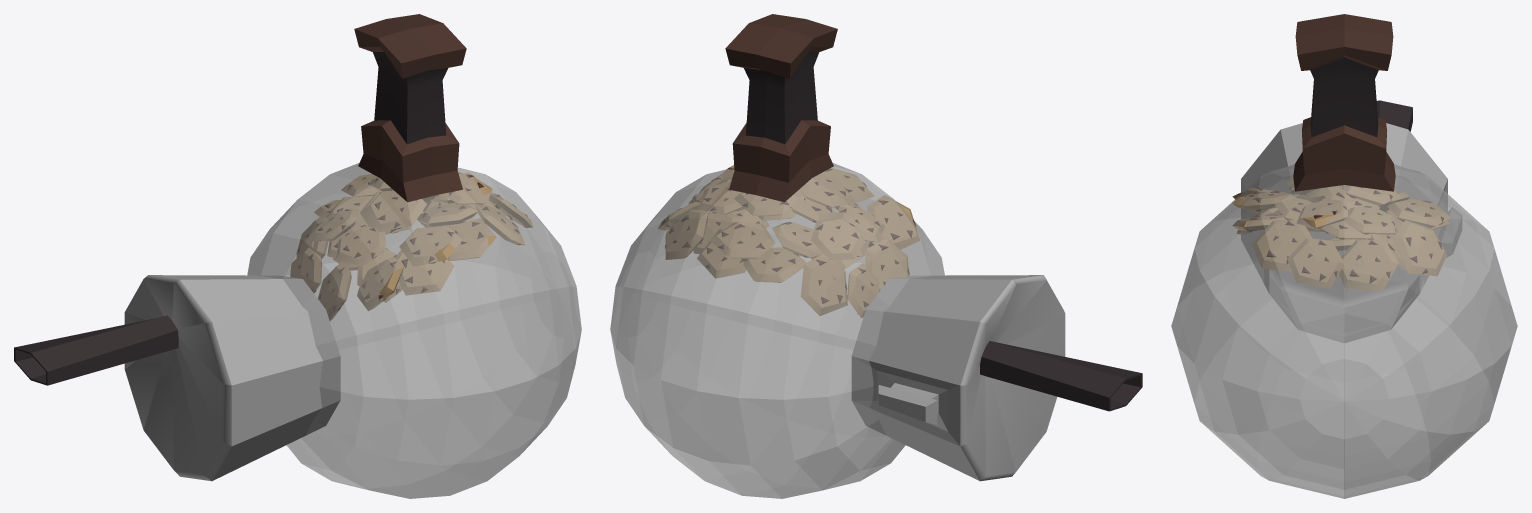
The model's file is cookie gun.fbx.
3 views of the same model, side by side, from view 1: azimuth 30°, elevation 25°; view 2: azimuth 150°, elevation 25°; view 3: azimuth 270°, elevation 25° (orthographic).
Parts seen in each view (by area): view 1: polySurface818, polySurface901, polySurface900, polySurface725, polySurface705, polySurface590, polySurface809, polySurface881, polySurface634, polySurface559, polySurface523, polySurface765 (+4 smaller); view 2: polySurface818, polySurface901, polySurface900, polySurface497, polySurface732, polySurface890, polySurface809, polySurface850, polySurface798, polySurface559, polySurface705, polySurface765 (+8 smaller); view 3: polySurface818, polySurface901, polySurface540, polySurface520, polySurface798, polySurface871, polySurface890, polySurface550, polySurface551, polySurface900, polySurface725, polySurface531 (+4 smaller).
Part boxes in pixels (x1=…): polySurface818: x1=247, y1=14, x2=581, y2=498; polySurface901: x1=124, y1=275, x2=340, y2=481; polySurface900: x1=14, y1=315, x2=178, y2=385; polySurface725: x1=399, y1=226, x2=461, y2=266; polySurface705: x1=364, y1=190, x2=426, y2=232; polySurface590: x1=395, y1=250, x2=454, y2=295; polySurface809: x1=357, y1=256, x2=403, y2=310; polySurface881: x1=336, y1=226, x2=385, y2=266; polySurface634: x1=448, y1=218, x2=496, y2=260; polySurface559: x1=318, y1=262, x2=351, y2=320; polySurface523: x1=417, y1=202, x2=478, y2=226; polySurface765: x1=290, y1=247, x2=321, y2=292; polySurface818: x1=610, y1=14, x2=944, y2=498; polySurface901: x1=851, y1=275, x2=1065, y2=481; polySurface900: x1=980, y1=341, x2=1142, y2=411; polySurface497: x1=800, y1=254, x2=847, y2=315; polySurface732: x1=811, y1=216, x2=865, y2=260; polySurface890: x1=710, y1=222, x2=774, y2=258; polySurface809: x1=867, y1=195, x2=919, y2=249; polySurface850: x1=743, y1=247, x2=806, y2=282; polySurface798: x1=665, y1=209, x2=708, y2=259; polySurface559: x1=864, y1=238, x2=909, y2=291; polySurface705: x1=800, y1=174, x2=855, y2=207; polySurface765: x1=847, y1=263, x2=878, y2=317; polySurface818: x1=1171, y1=14, x2=1517, y2=498; polySurface901: x1=1241, y1=123, x2=1461, y2=342; polySurface540: x1=1339, y1=239, x2=1398, y2=291; polySurface520: x1=1287, y1=238, x2=1344, y2=288; polySurface798: x1=1393, y1=220, x2=1447, y2=276; polySurface871: x1=1252, y1=220, x2=1312, y2=271; polySurface890: x1=1387, y1=199, x2=1450, y2=228; polySurface550: x1=1344, y1=206, x2=1395, y2=234; polySurface551: x1=1297, y1=198, x2=1347, y2=228; polySurface900: x1=1376, y1=100, x2=1412, y2=131; polySurface725: x1=1232, y1=192, x2=1296, y2=209; polySurface531: x1=1341, y1=185, x2=1399, y2=205.
Size of the model in its own units: 1.02 by 0.8698 by 0.5991.
